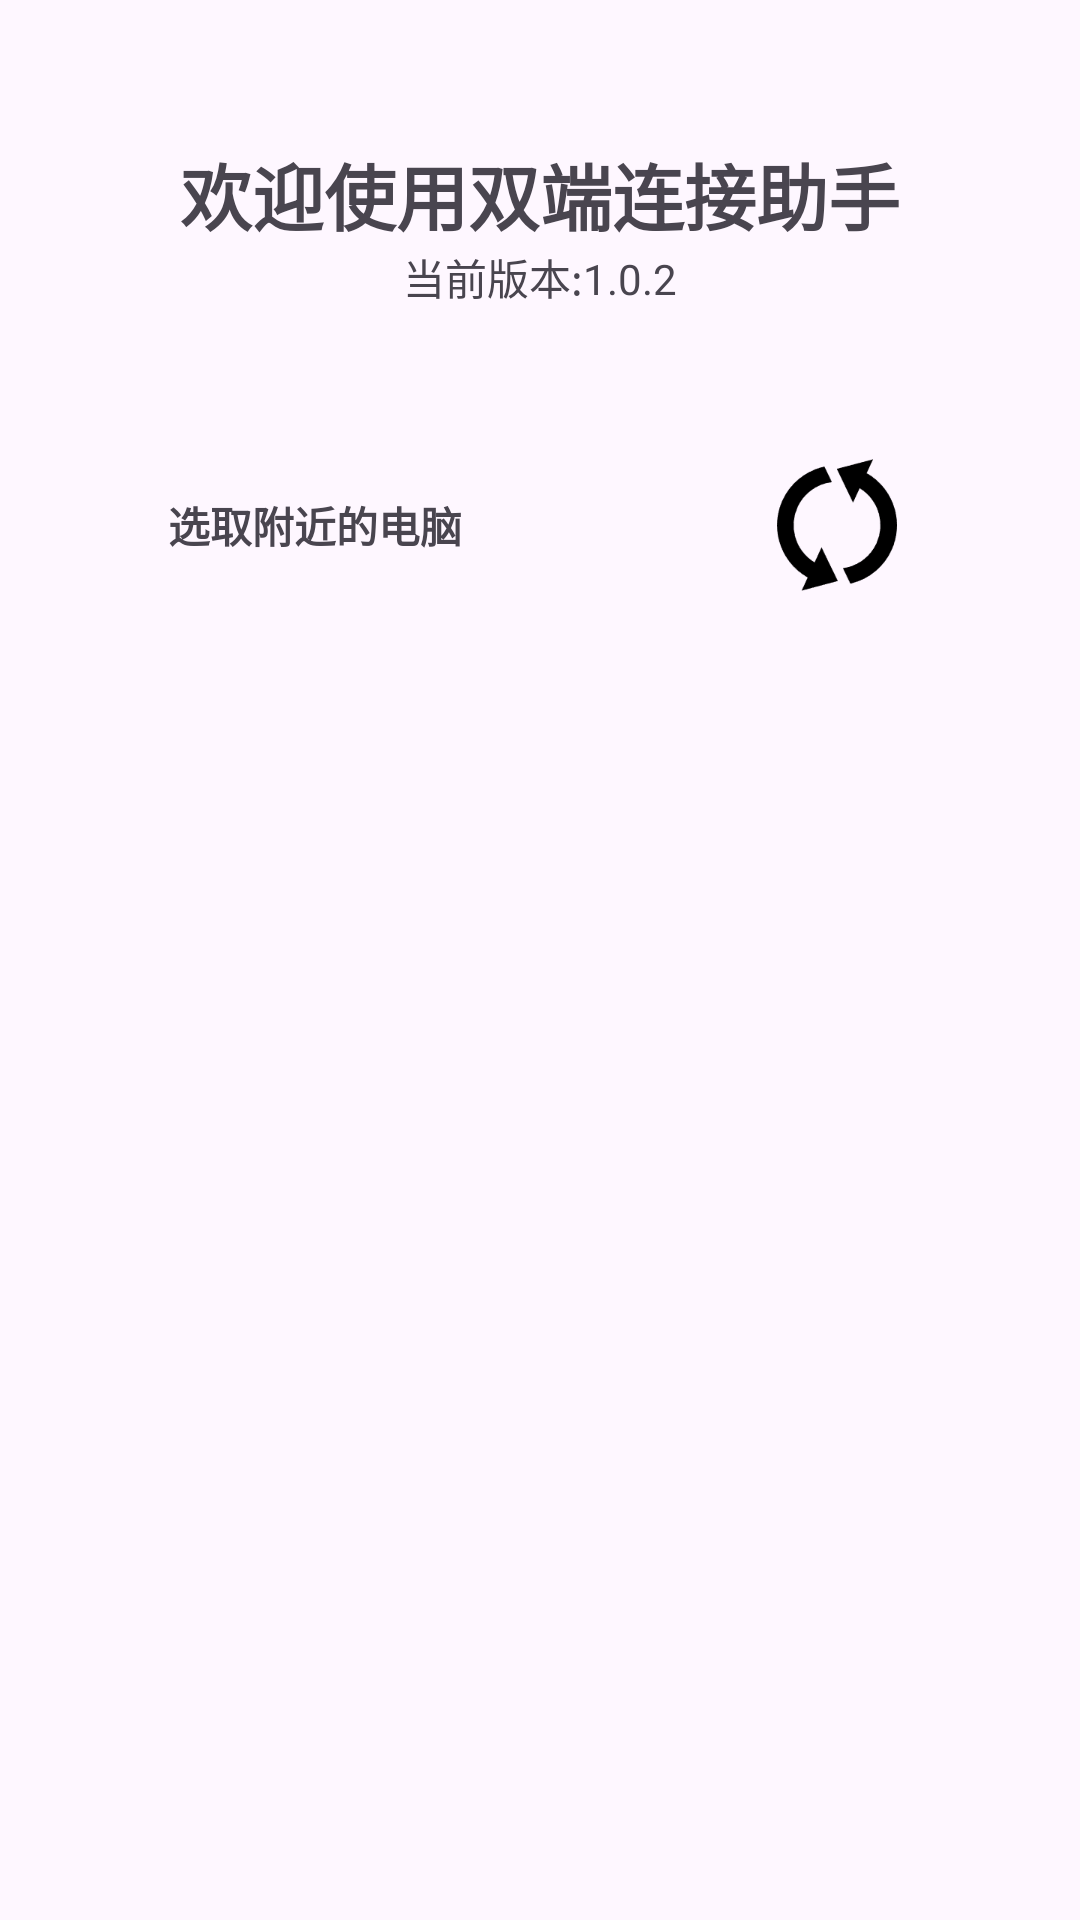

Named icons in this screenshot (1080 × 1920) and their bounding boxes, (x1, y1, x2, y2):
refresh: (777, 459, 897, 591)
